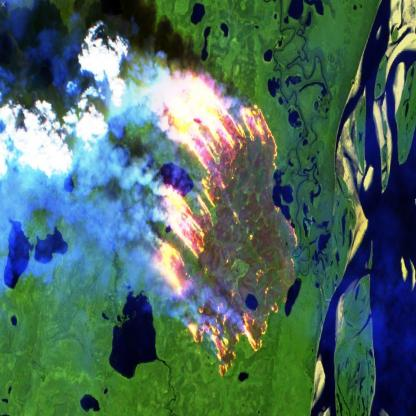fire: (150, 100, 305, 384)
